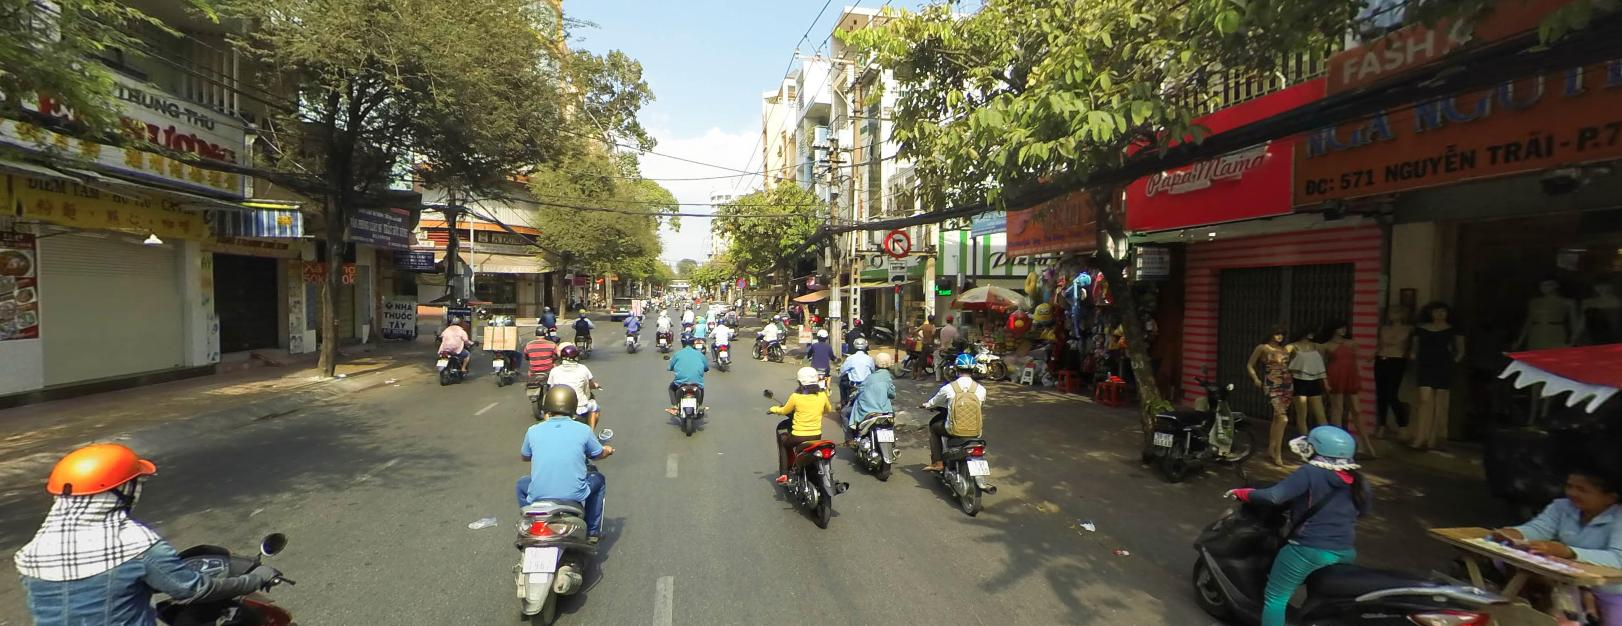Cam dung va do: (735, 277, 746, 287)
Cam re: (883, 225, 912, 256)
